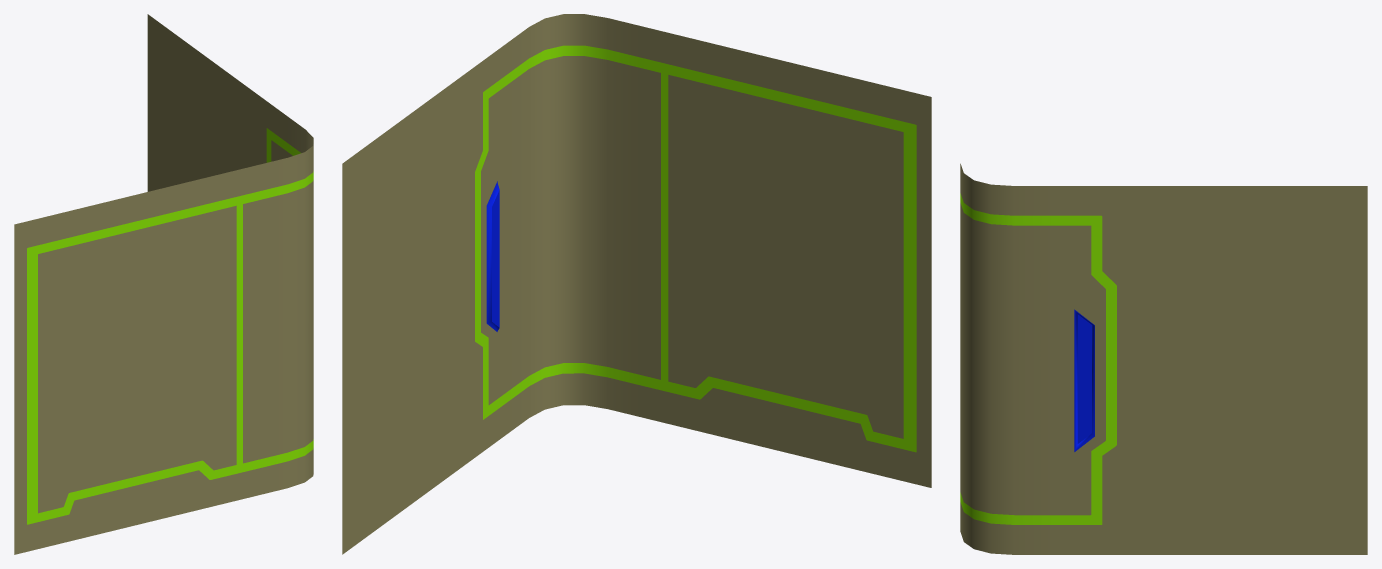
File: Building_Wall_03b_snaps016.FBX
The picture shows the model from 3 angles, left to right: view 1: azimuth 30°, elevation 25°; view 2: azimuth 150°, elevation 25°; view 3: azimuth 270°, elevation 25°; orthographic projection. The views are drawn at different scales.
Parts seen in each view (by area): view 1: Building_Wall_03b_snaps016_LOD0; view 2: Building_Wall_03b_snaps016_LOD0; view 3: Building_Wall_03b_snaps016_LOD0.
Part boxes in pixels (bbox=[...]): Building_Wall_03b_snaps016_LOD0: bbox=[14, 14, 313, 554]; Building_Wall_03b_snaps016_LOD0: bbox=[342, 14, 931, 554]; Building_Wall_03b_snaps016_LOD0: bbox=[960, 163, 1367, 554].
Size of what is drawn, in the model's own units: 3 by 3 by 3.
